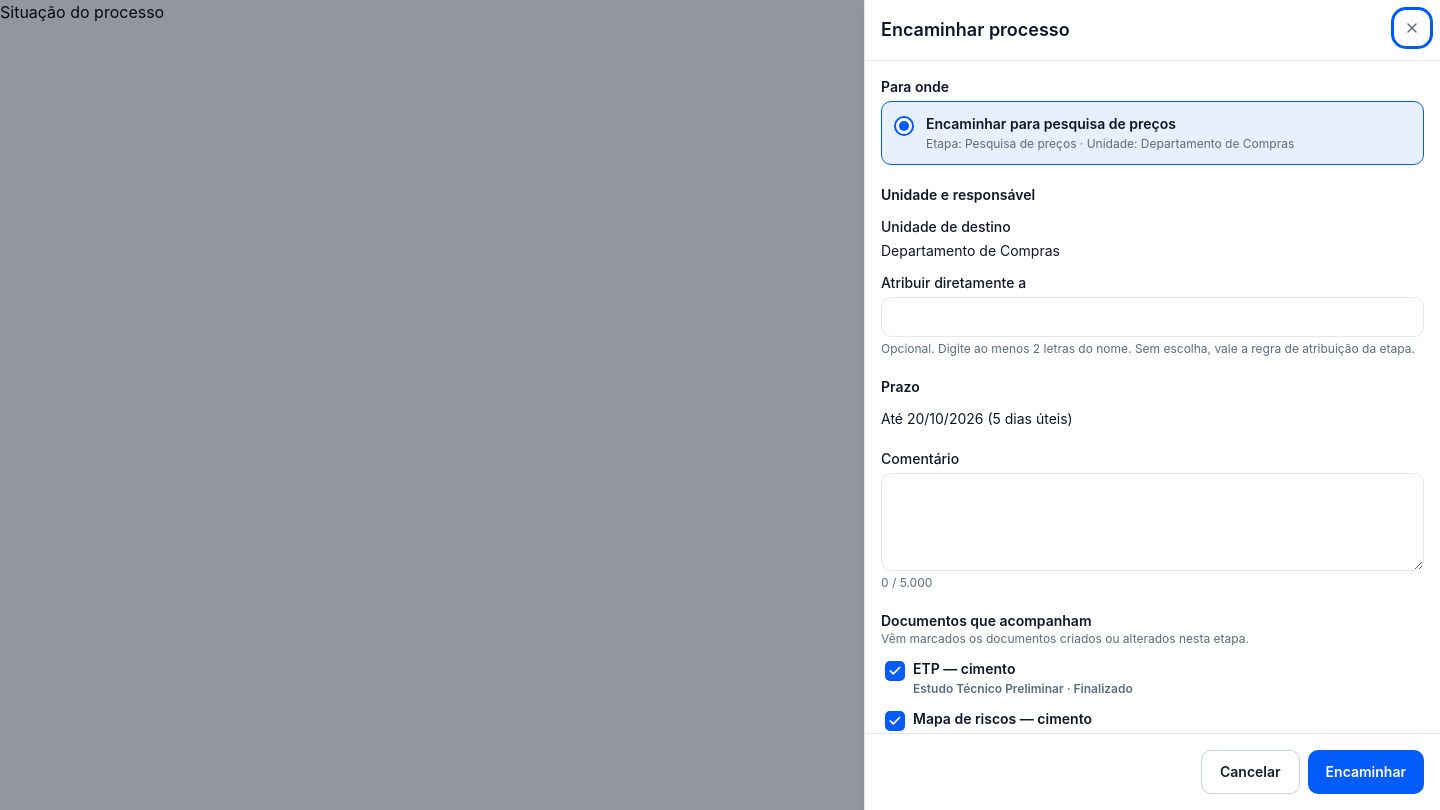
Test: SCR-103 · Painel "Encaminhar processo" (US-047) › [Sucesso] envia o PRC-19 com If-Match, Idempotency-Key e corpo; fecha, avisa e leva o foco ao cabeçalho
Expected: the text "Etapa: Pesquisa de preços · Unidade: Departamento de Compras" is shown, [926,136,1294,152]
Expected: the text "Até 20/10/2026 (5 dias úteis)" is shown, [881,410,1073,427]
Type "ETP concluído; seguem ETP e mapa de riscos" into the text box labelled "Comentário". click: {"x": 1152, "y": 522}
box: [881,473,1424,571]
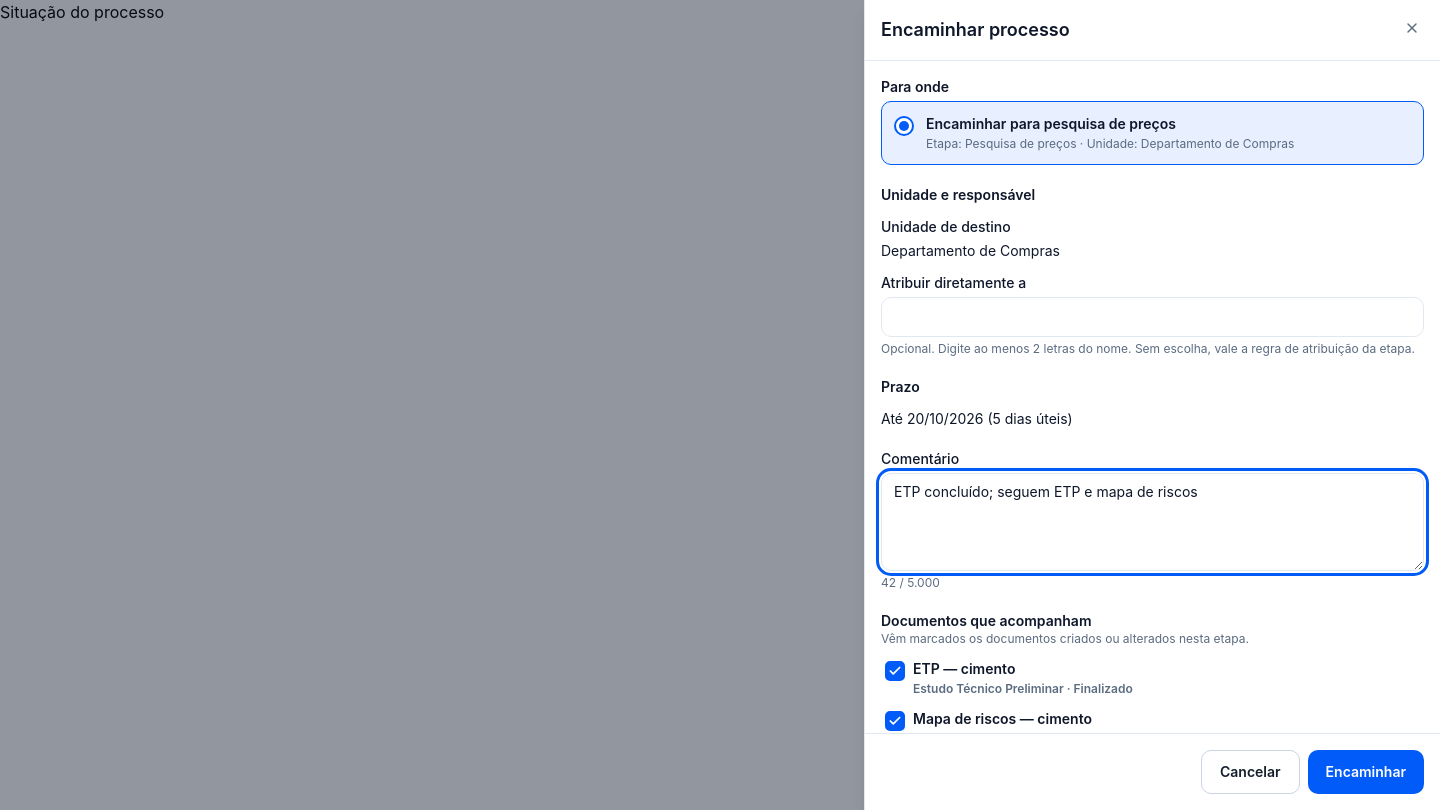
Click the button "Encaminhar". click: {"x": 1366, "y": 772}
box: [1308,750,1424,794]
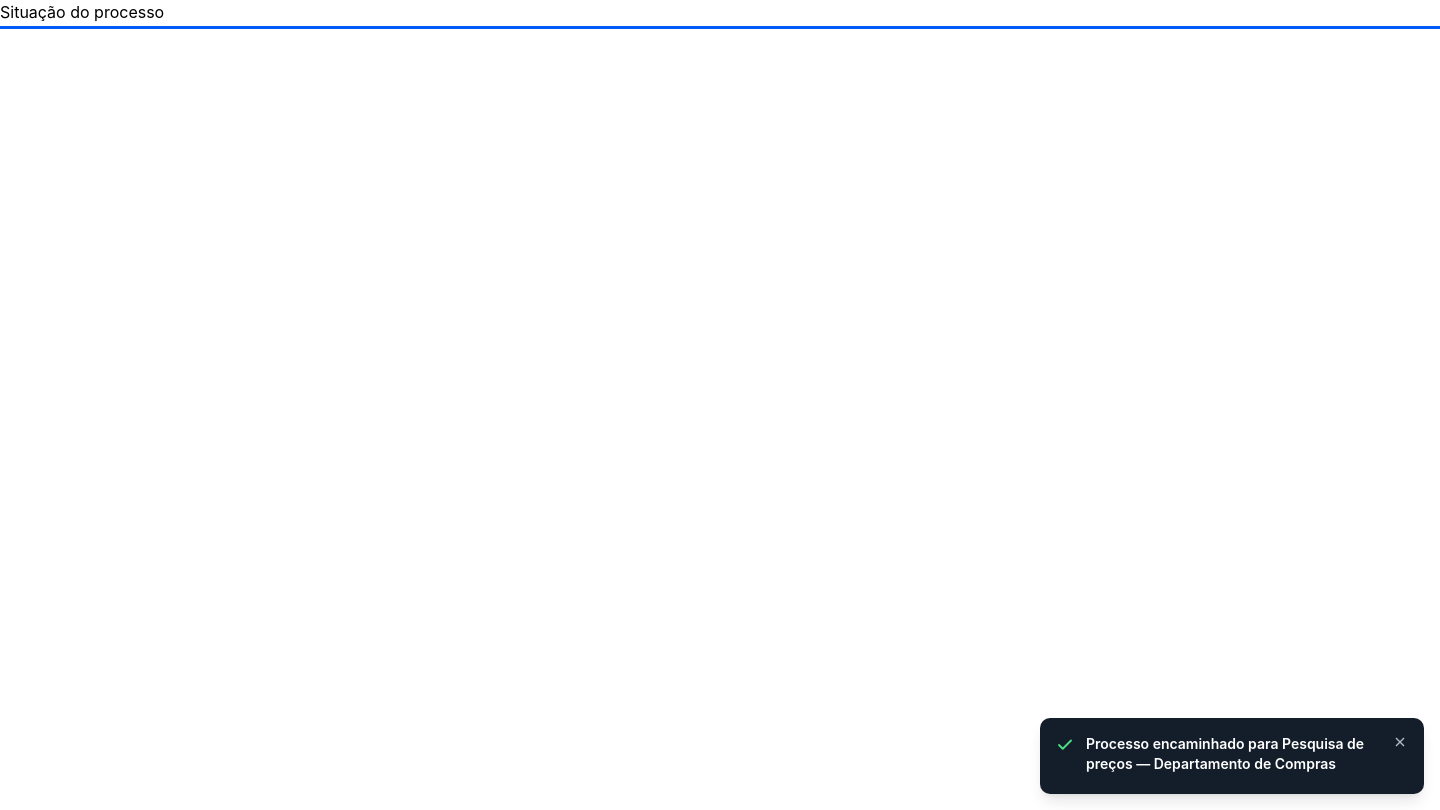
Now the text "Processo encaminhado para Pesquisa de preços — Departamento de Compras" is shown, box [1086,734,1376,774]
